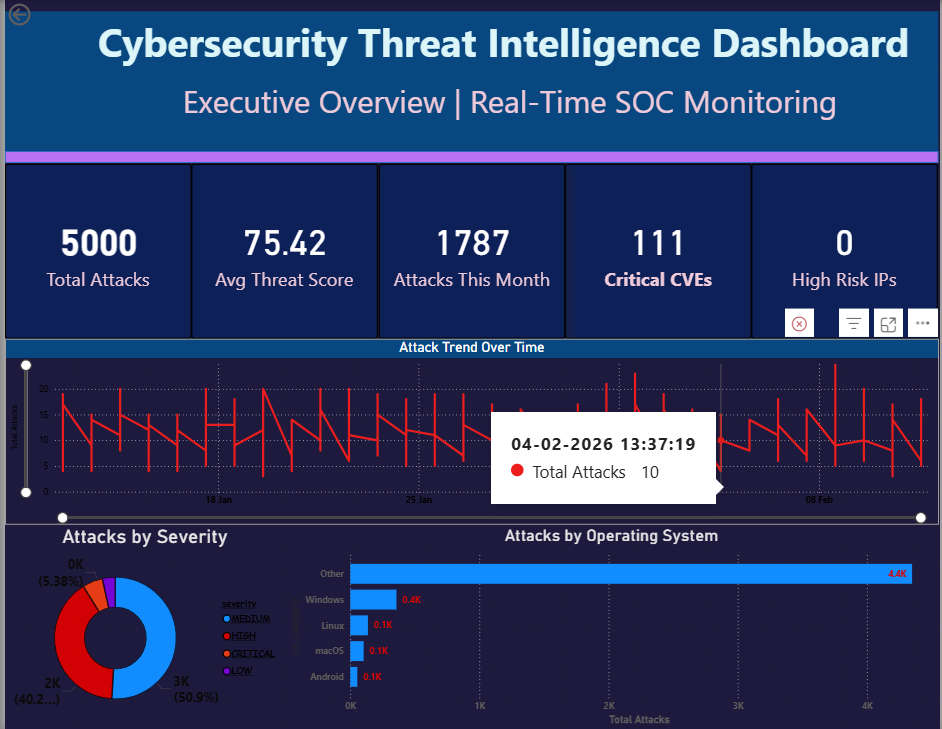

What the dashboard file says about the page in this screenshot:
{"tool":"powerbi","page":{"name":"Page 1Management","canvas":[1282,1000],"ordinal":0},"visuals":[{"type":"card","fields":{"Values":["fact_attacks.Total Attacks"]},"box":[0,224,256,240],"z":0},{"type":"card","fields":{"Values":["fact_attacks.Critical CVEs"]},"box":[768,224,256,240],"z":1000},{"type":"card","fields":{"Values":["fact_attacks.Avg Threat Score"]},"box":[256,224,256,240],"z":2000},{"type":"card","fields":{"Values":["fact_attacks.High Risk IPs"]},"box":[1024,224,256,240],"z":3000},{"type":"card","fields":{"Values":["fact_attacks.Attacks This Month"]},"box":[512,224,256,240],"z":4000},{"type":"textbox","box":[0,16,1280,192],"z":5000},{"type":"shape","box":[0,208,1280,16],"z":6000},{"type":"lineChart","title":"Attack Trend Over Time","fields":{"Category":["fact_attacks.timestamp"],"Y":["fact_attacks.Total Attacks"]},"box":[0,464,1280,256],"z":7000},{"type":"donutChart","title":"Attacks by Severity","fields":{"Category":["dim_cve.severity"],"Y":["fact_attacks.Total Attacks"]},"box":[0,720,384,280],"z":8000},{"type":"actionButton","box":[0,0,100,40],"z":9000},{"type":"clusteredBarChart","title":"Attacks by Operating System","fields":{"Category":["dim_os.os_category"],"Y":["fact_attacks.Total Attacks"]},"box":[384,720,896,280],"z":10000}]}

Visuals, with their boxes in screenshot pixels (x1, y1, x2, y2), scaled from the page's 1282x1000 canvas onto the 942x729 screenshot:
card - fact_attacks.Total Attacks: box(0, 163, 188, 338)
card - fact_attacks.Critical CVEs: box(564, 163, 752, 338)
card - fact_attacks.Avg Threat Score: box(188, 163, 376, 338)
card - fact_attacks.High Risk IPs: box(752, 163, 941, 338)
card - fact_attacks.Attacks This Month: box(376, 163, 564, 338)
textbox: box(0, 12, 941, 152)
shape: box(0, 152, 941, 163)
"Attack Trend Over Time" lineChart: box(0, 338, 941, 525)
"Attacks by Severity" donutChart: box(0, 525, 282, 728)
actionButton: box(0, 0, 73, 29)
"Attacks by Operating System" clusteredBarChart: box(282, 525, 941, 728)
